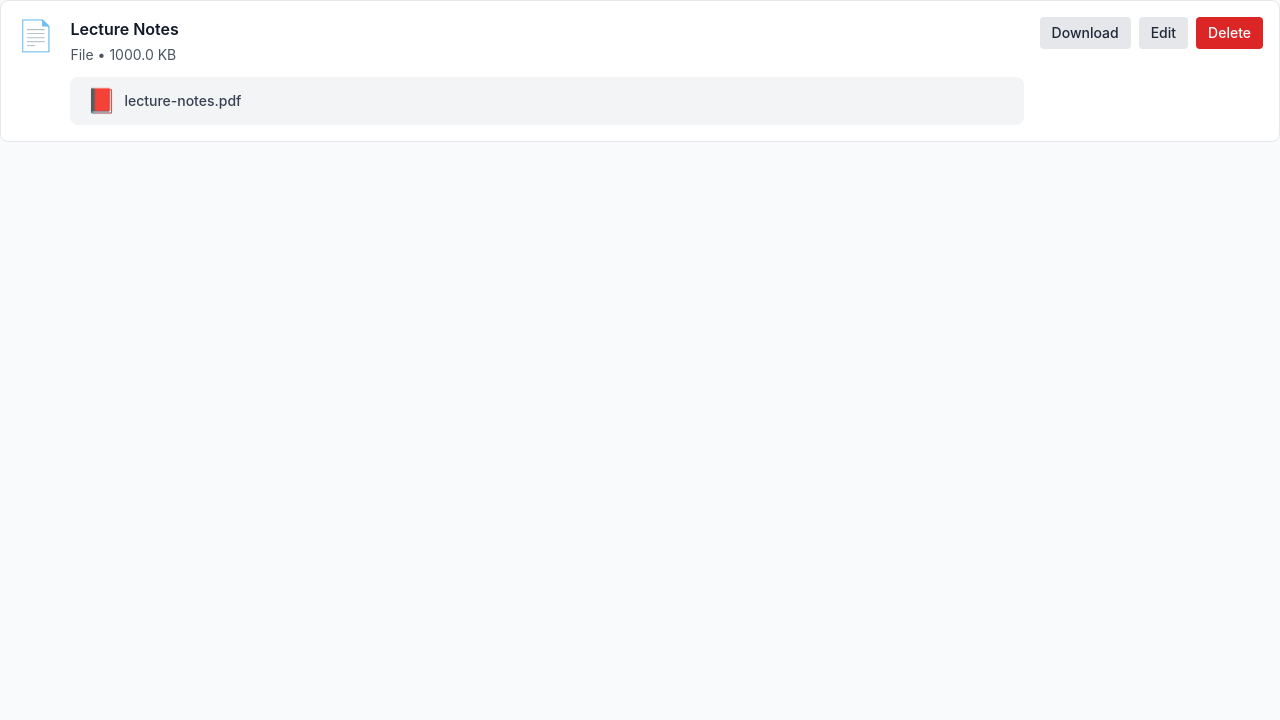
it: MaterialList Component › Edit Modal Integration › should open edit modal when edit button is clicked
This screenshot has width=1280, height=720.
expect the heading "Lecture Notes" is shown: met, box [70,19,179,39]
Click the button "Edit": [1163, 33] box [1139,17,1188,49]
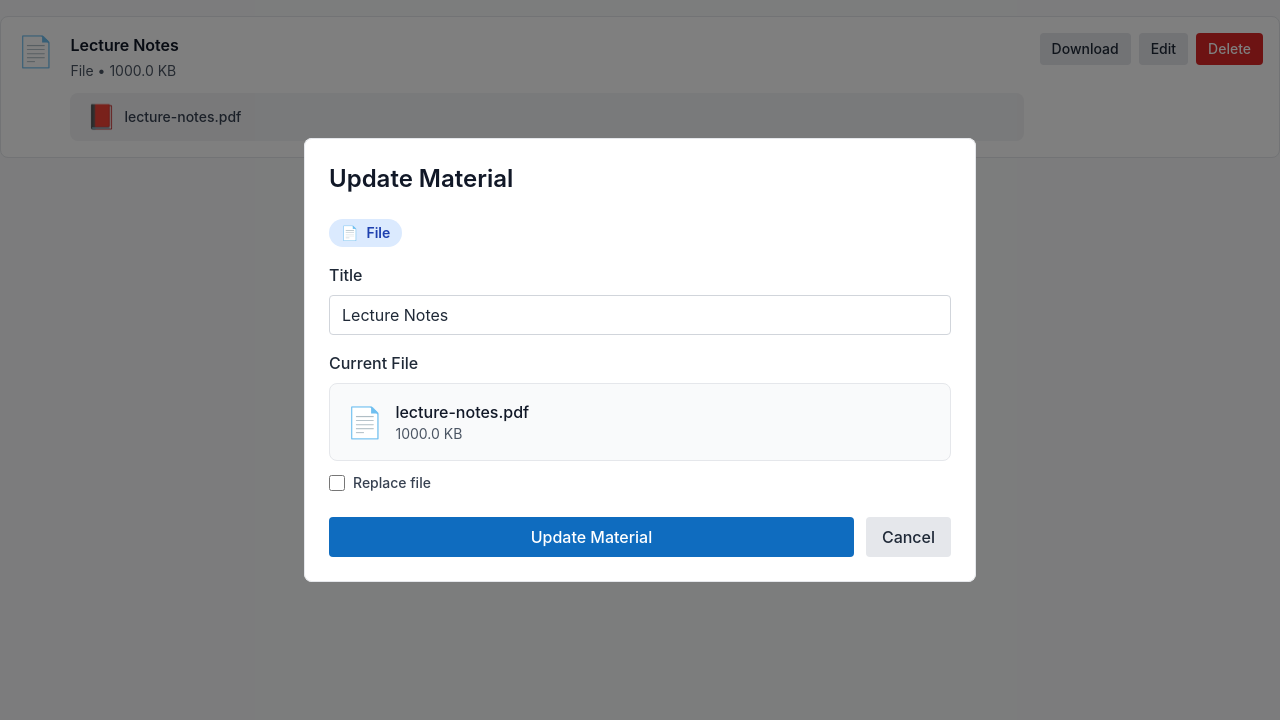
expect the heading "Update Material" is shown: met, box [329,164,513,193]
